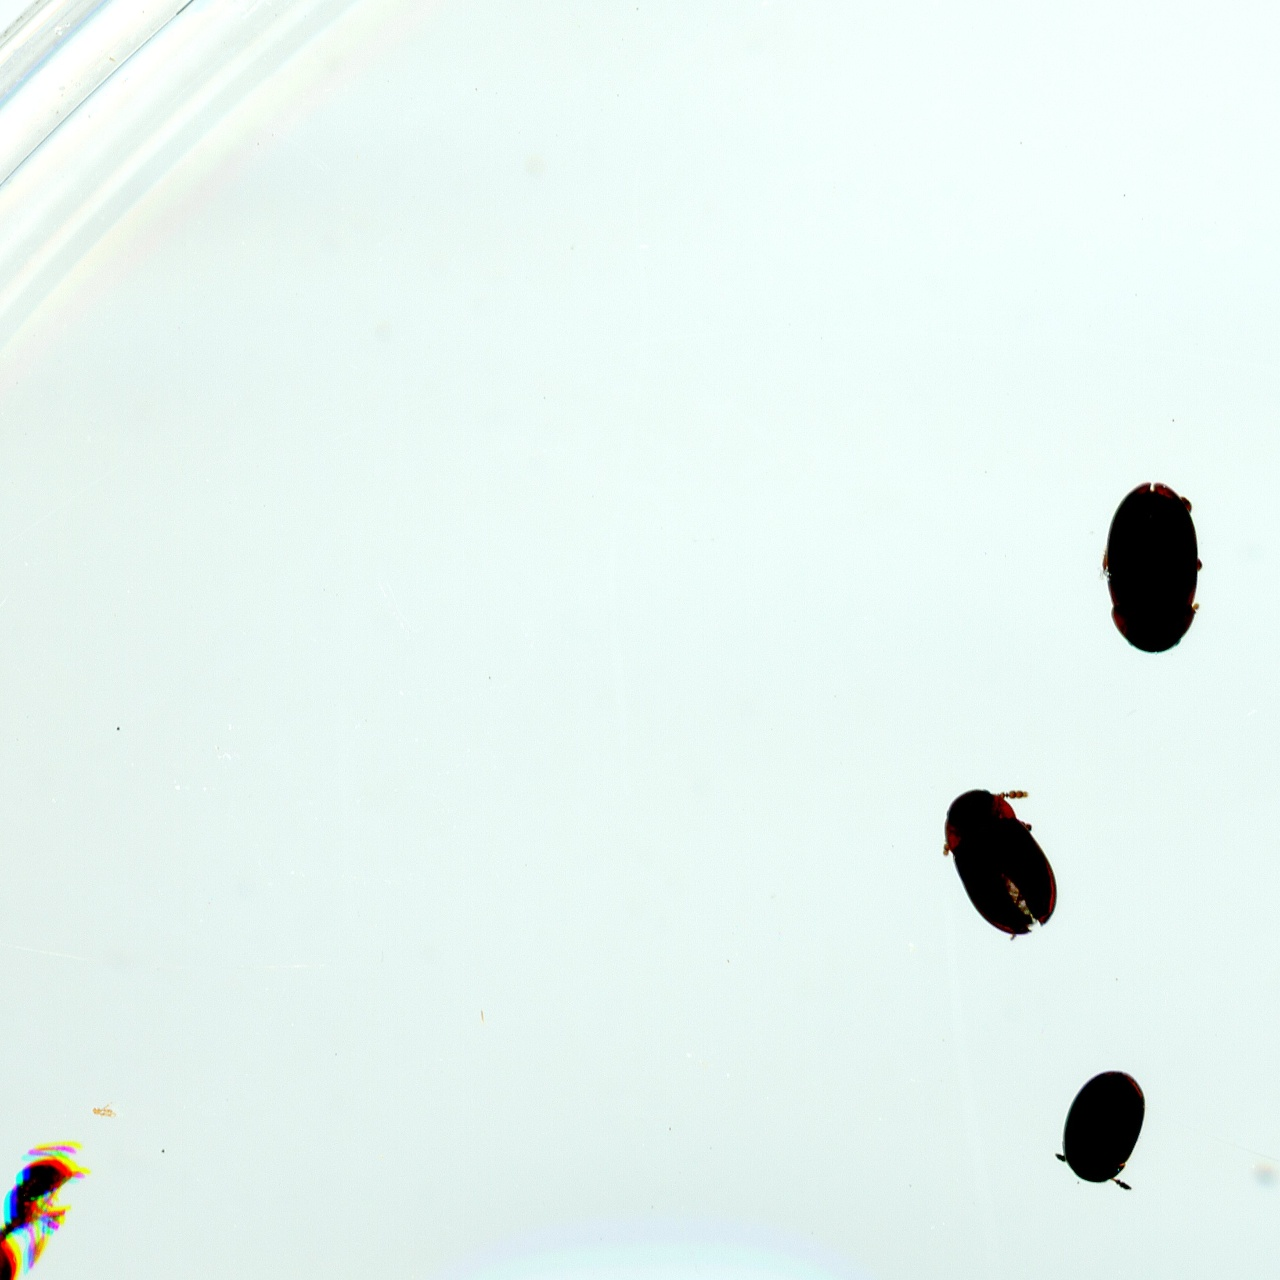arthropod: (944, 781, 1062, 946), (1097, 482, 1210, 654), (0, 1143, 80, 1280), (1057, 1070, 1148, 1189)
